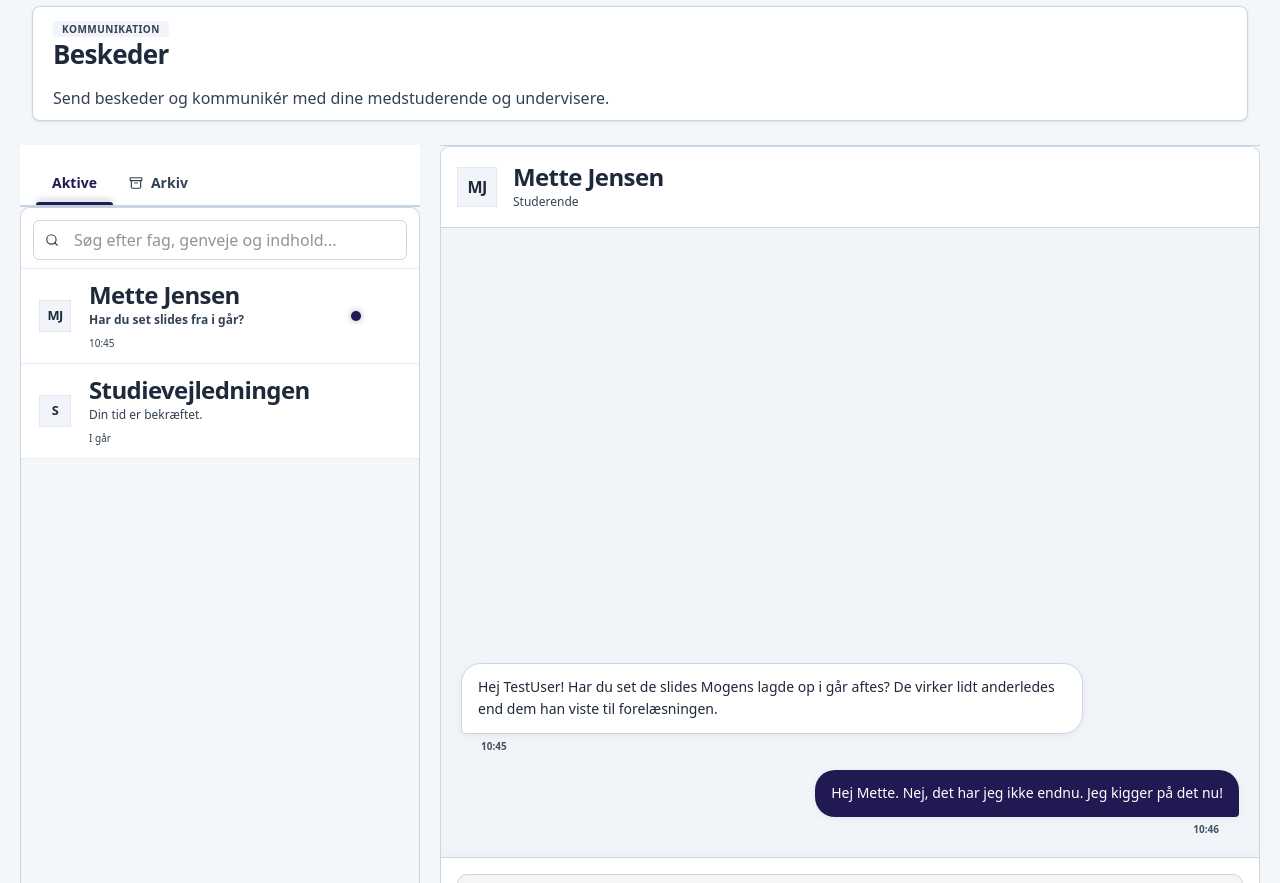
Test: Messages Page › shows empty chat panel when no contact is selected in archive view
Click the tab with test id "tab-archive" at {"x": 158, "y": 183}, box [113,161,204,205]
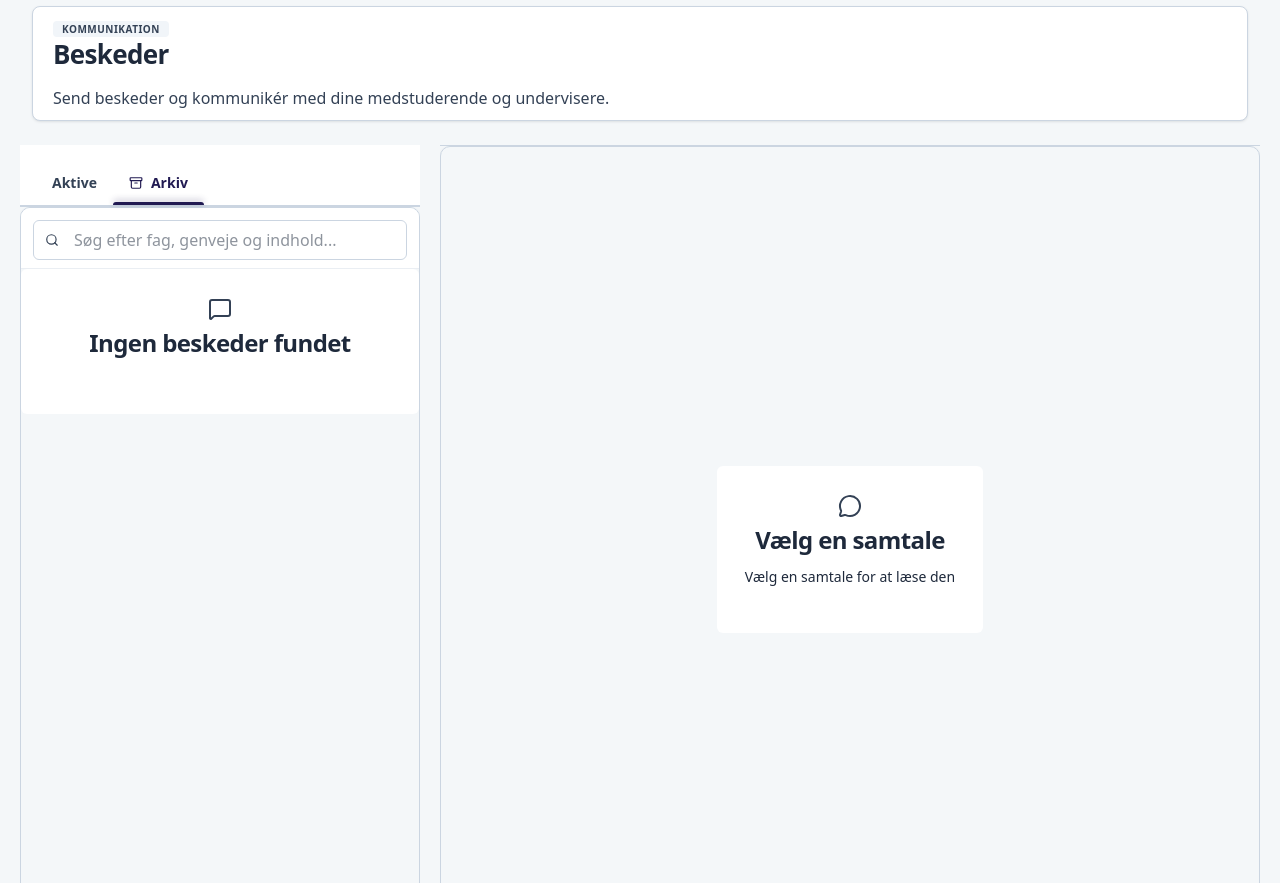
Result: the heading "Vælg en samtale" is shown at [755,526,945,554]
Result: the text "Vælg en samtale for at læse den" is shown at [745,566,955,589]
